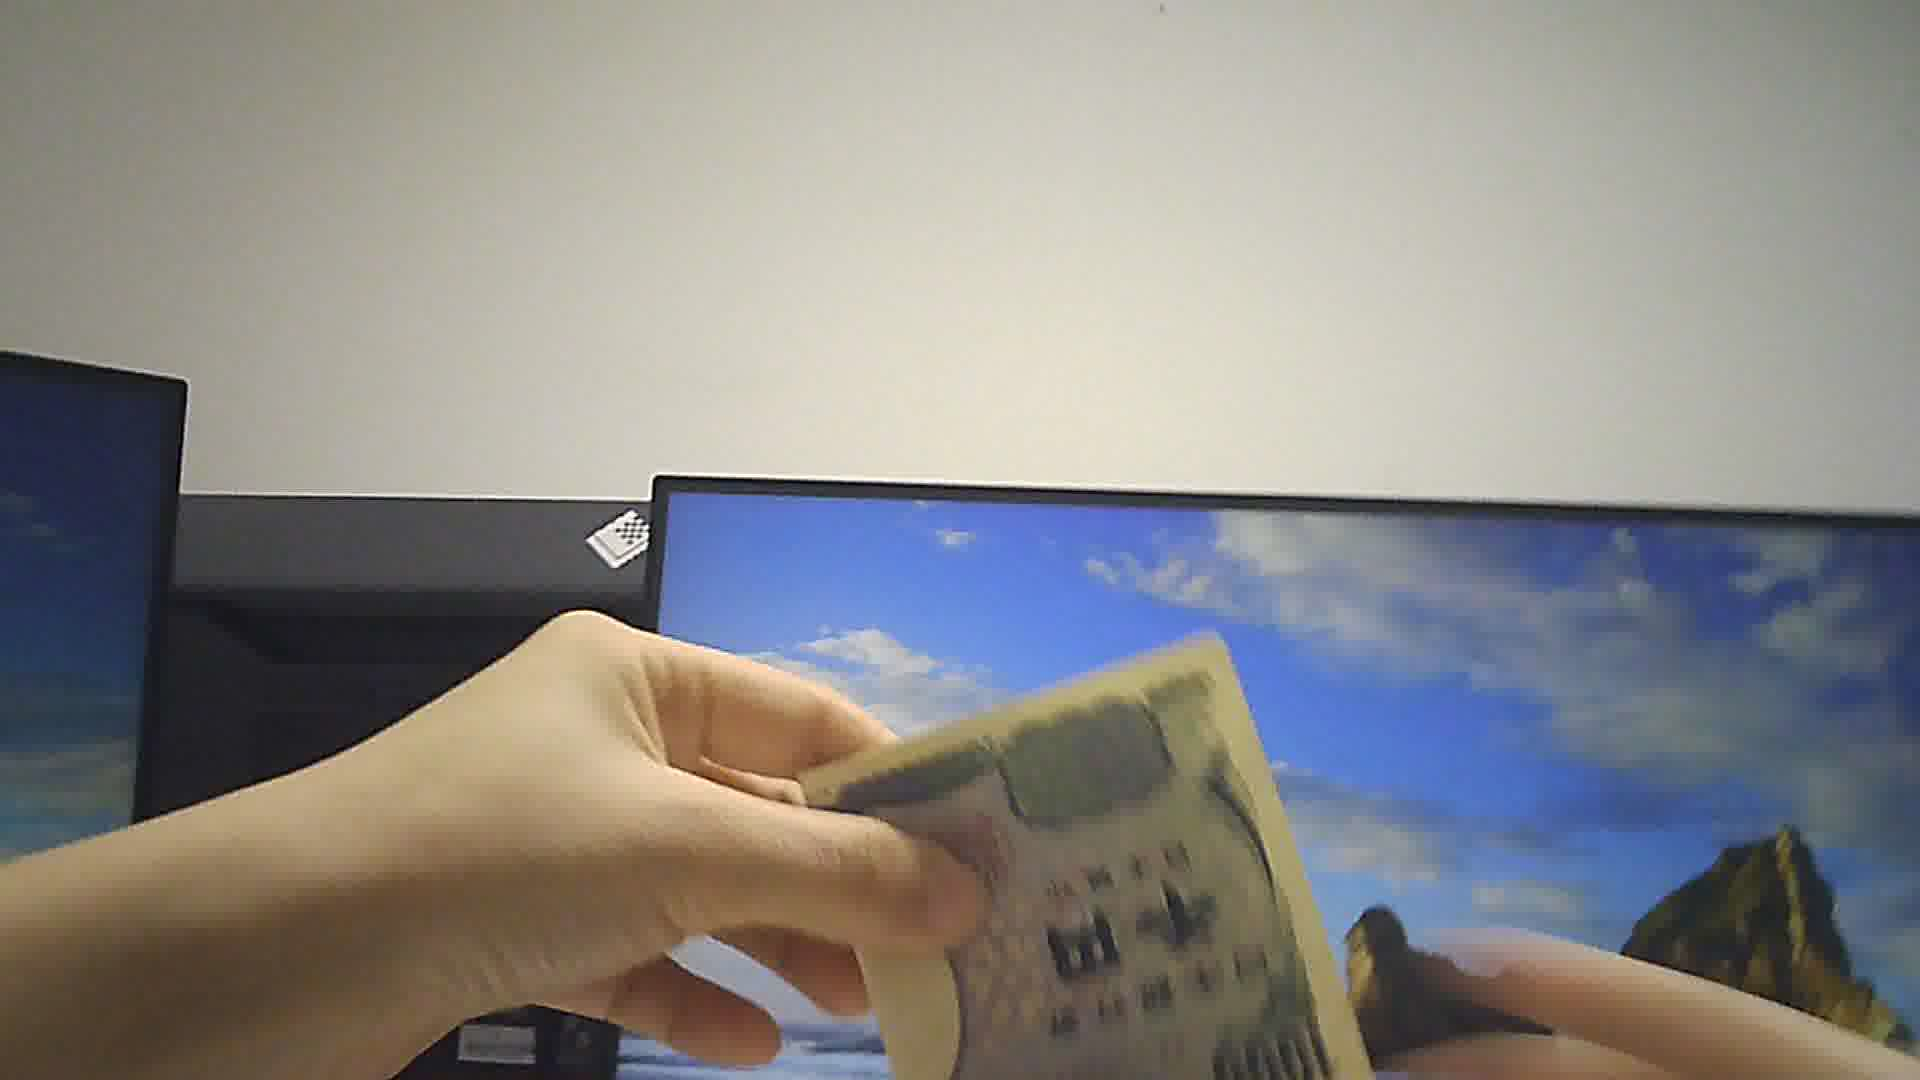1,000 Yen: (789, 650, 1354, 1079)
